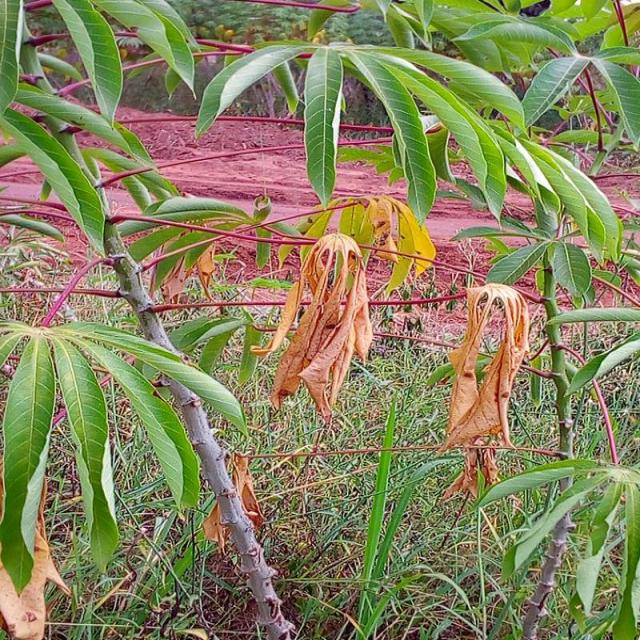cassava leaf: (302, 45, 343, 209)
